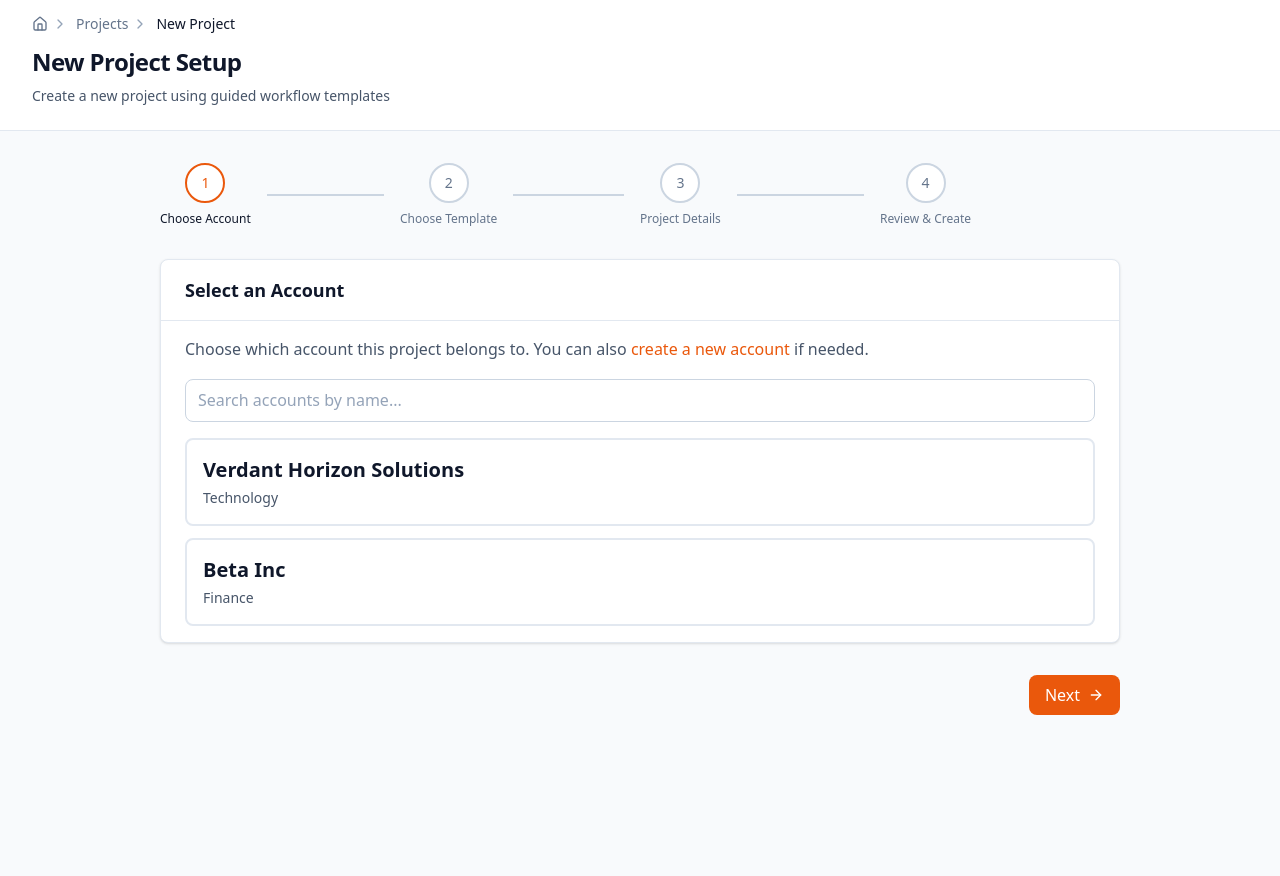
Test: Project Setup Flow › allows selecting a project template
The image size is (1280, 876).
Expected: the heading "Verdant Horizon Solutions" is shown, [203, 456, 464, 484]
Click the button "Verdant Horizon Solutions Technology": (334, 470) [185, 438, 1095, 526]
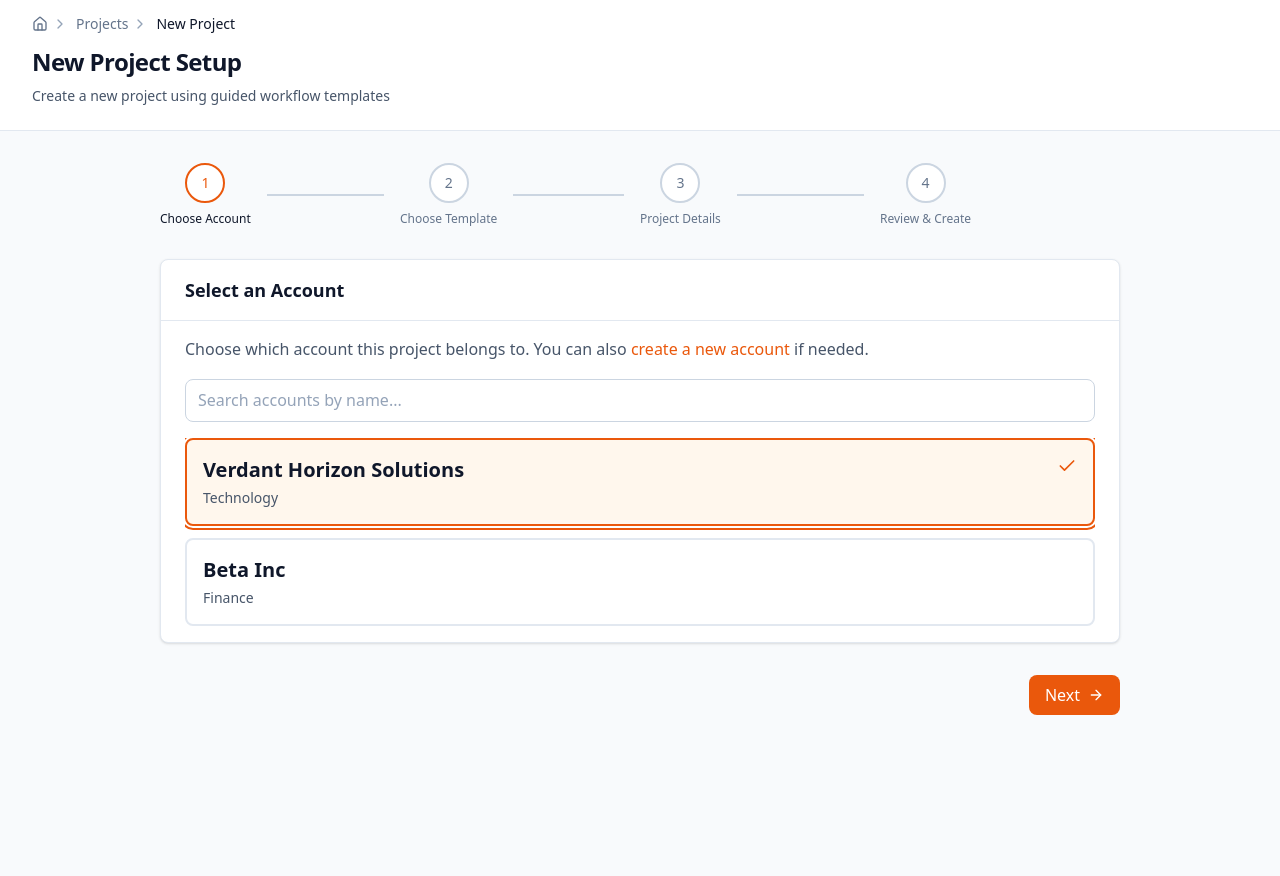
Click the button "Next": (1074, 695) [1029, 675, 1120, 715]
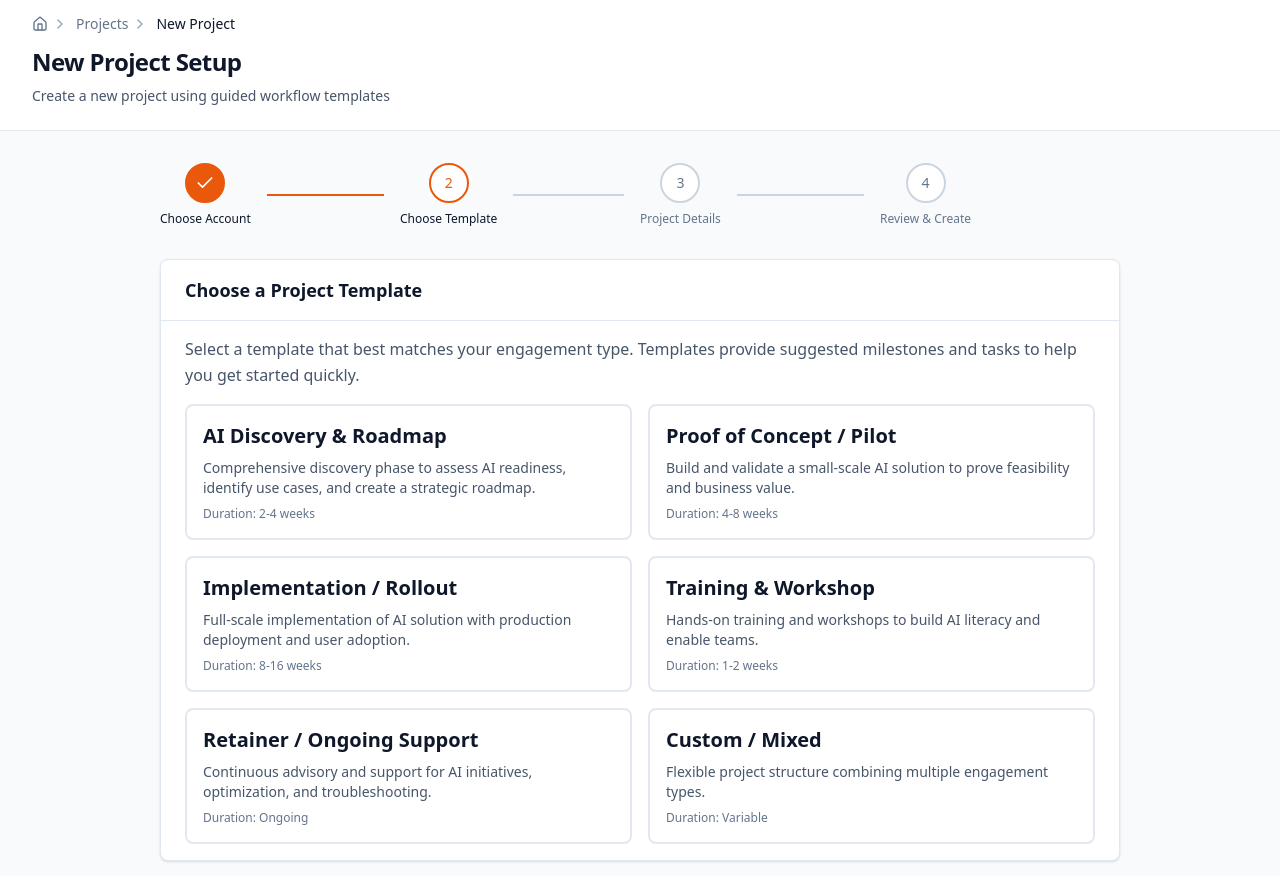
Expected: the heading "AI Discovery & Roadmap" is shown, [203, 422, 447, 450]
Click the button "AI Discovery & Roadmap": (408, 472) [185, 404, 632, 540]
(page scrolled)
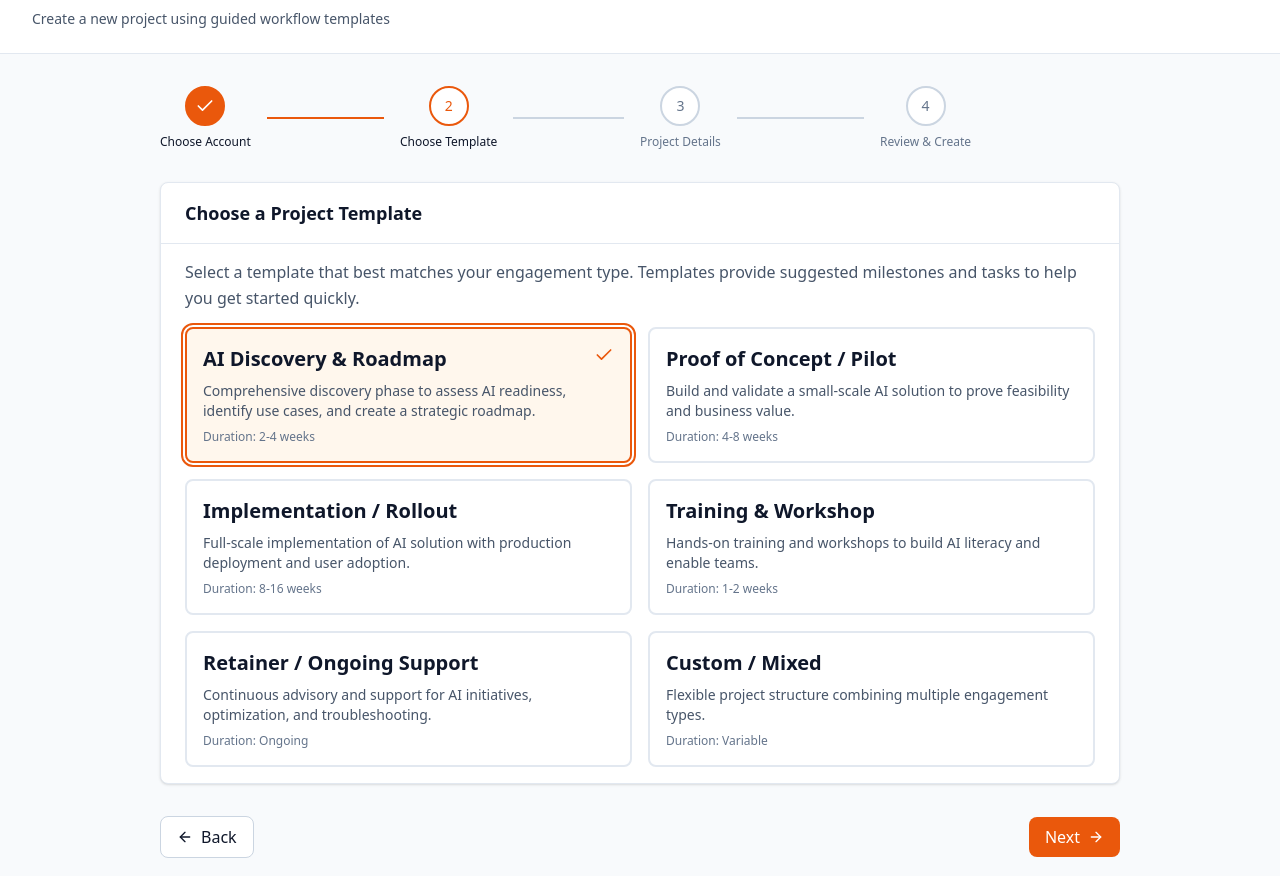
Expected: the button "AI Discovery & Roadmap" has class "border-primary-600", [185, 327, 632, 463]
# Proceed to details
Click the button "Next": (1074, 837) [1029, 817, 1120, 857]
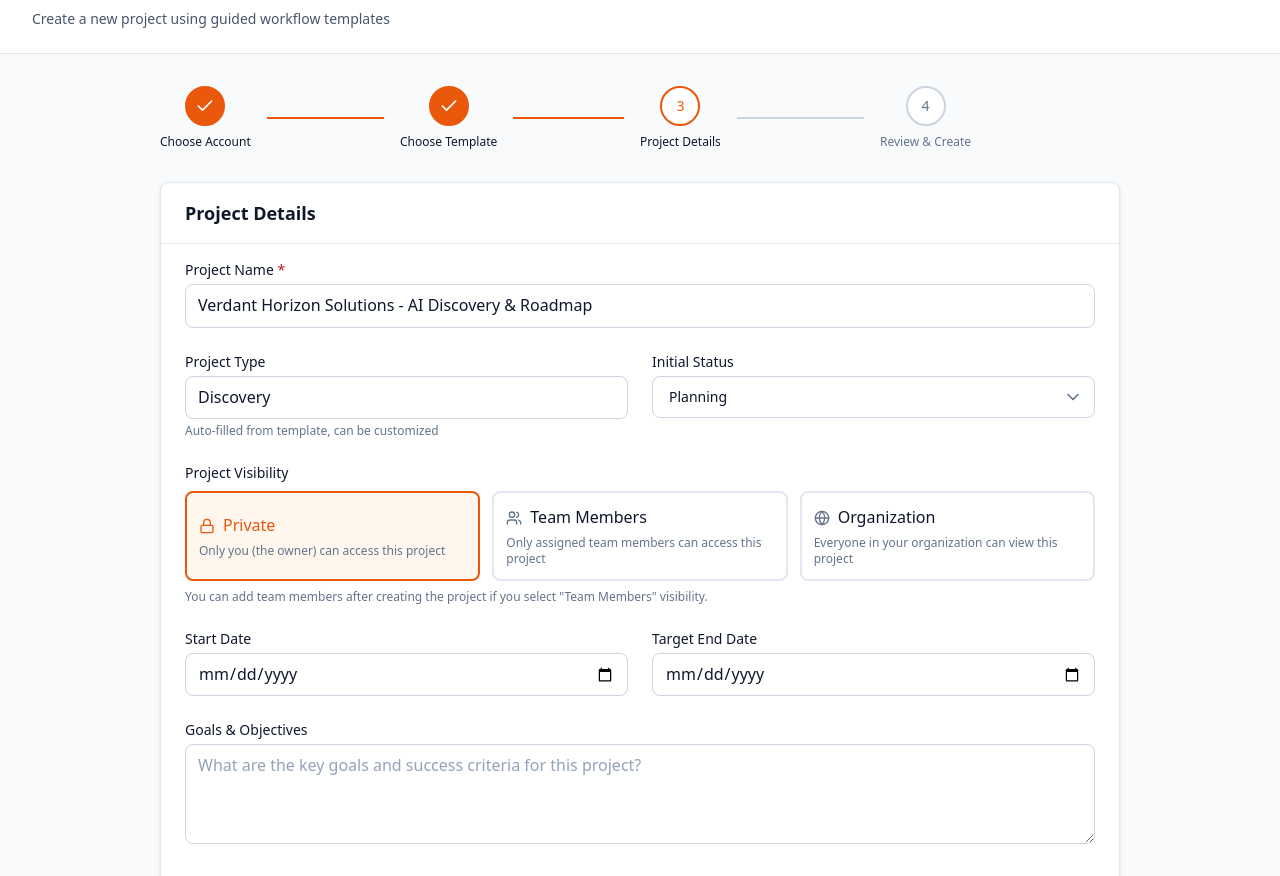
Expected: the heading "Project Details" is shown, [185, 201, 316, 225]
